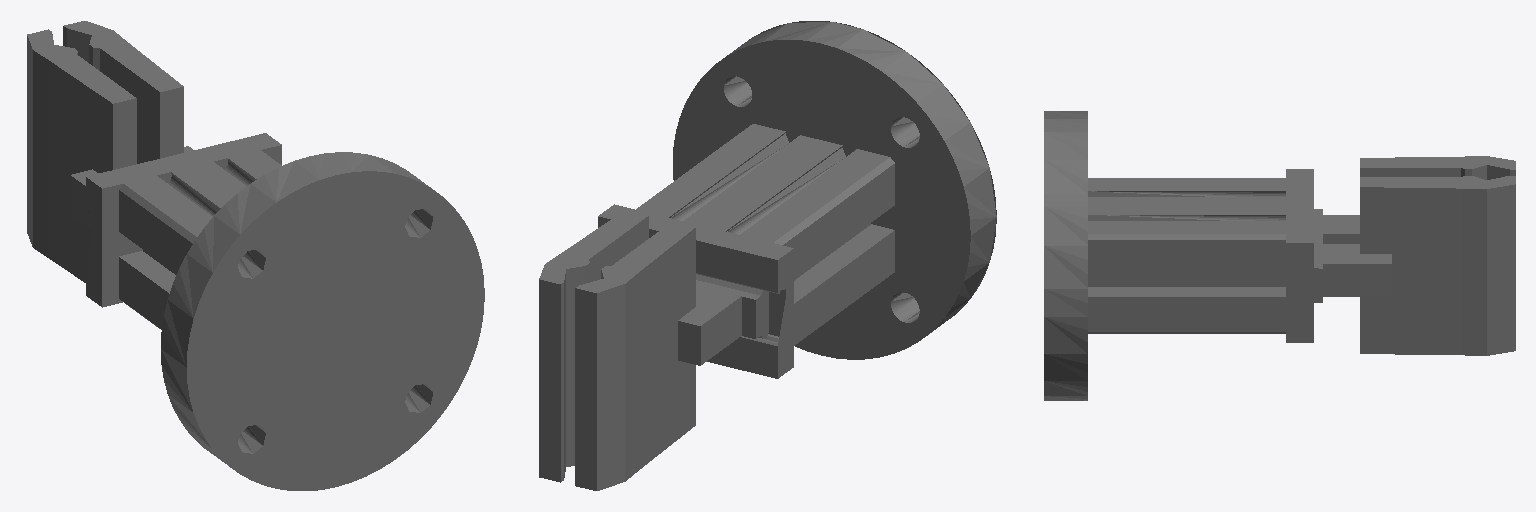
URDF robot description (ur5):
<?xml version="1.0" ?>
<!-- =================================================================================== -->
<!-- |    This document was autogenerated by xacro from /opt/ros/kinetic/share/ur_description/urdf/ur5_robot.urdf.xacro | -->
<!-- |    EDITING THIS FILE BY HAND IS NOT RECOMMENDED                                 | -->
<!-- =================================================================================== -->
<robot name="ur5" xmlns:xacro="http://ros.org/wiki/xacro">
  <gazebo>
    <plugin filename="libgazebo_ros_control.so" name="ros_control">
      <!--robotNamespace>/</robotNamespace-->
      <!--robotSimType>gazebo_ros_control/DefaultRobotHWSim</robotSimType-->
    </plugin>
    <!--
    <plugin name="gazebo_ros_power_monitor_controller" filename="libgazebo_ros_power_monitor.so">
      <alwaysOn>true</alwaysOn>
      <updateRate>1.0</updateRate>
      <timeout>5</timeout>
      <powerStateTopic>power_state</powerStateTopic>
      <powerStateRate>10.0</powerStateRate>
      <fullChargeCapacity>87.78</fullChargeCapacity>
      <dischargeRate>-474</dischargeRate>
      <chargeRate>525</chargeRate>
      <dischargeVoltage>15.52</dischargeVoltage>
      <chargeVoltage>16.41</chargeVoltage>
    </plugin>
-->
  </gazebo>
  <!-- measured from model -->
  <!--property name="shoulder_height" value="0.089159" /-->
  <!--property name="shoulder_offset" value="0.13585" /-->
  <!-- shoulder_offset - elbow_offset + wrist_1_length = 0.10915 -->
  <!--property name="upper_arm_length" value="0.42500" /-->
  <!--property name="elbow_offset" value="0.1197" /-->
  <!-- CAD measured -->
  <!--property name="forearm_length" value="0.39225" /-->
  <!--property name="wrist_1_length" value="0.093" /-->
  <!-- CAD measured -->
  <!--property name="wrist_2_length" value="0.09465" /-->
  <!-- In CAD this distance is 0.930, but in the spec it is 0.09465 -->
  <!--property name="wrist_3_length" value="0.0823" /-->
  <!-- manually measured -->
  <link name="base_link">
    <visual>
      <geometry>
        <mesh filename="package://ur_description/meshes/ur5/visual/base.obj"/>
      </geometry>
      <material name="LightGrey">
        <color rgba="0.7 0.7 0.7 1.0"/>
      </material>
    </visual>
    <collision>
      <geometry>
        <mesh filename="package://ur_description/meshes/ur5/collision/base.stl"/>
      </geometry>
    </collision>
    <inertial>
      <mass value="4.0"/>
      <origin rpy="0 0 0" xyz="0.0 0.0 0.0"/>
      <inertia ixx="0.00443333156" ixy="0.0" ixz="0.0" iyy="0.00443333156" iyz="0.0" izz="0.0072"/>
    </inertial>
  </link>
  <joint name="shoulder_pan_joint" type="revolute">
    <parent link="base_link"/>
    <child link="shoulder_link"/>
    <origin rpy="0.0 0.0 0.0" xyz="0.0 0.0 0.089159"/>
    <axis xyz="0 0 1"/>
    <limit effort="150.0" lower="-6.2831853" upper="6.2831853" velocity="3.15"/>
    <dynamics damping="0.0" friction="0.0"/>
  </joint>
  <link name="shoulder_link">
    <visual>
      <geometry>
        <mesh filename="package://ur_description/meshes/ur5/visual/shoulder.obj"/>
      </geometry>
      <material name="LightGrey">
        <color rgba="0.7 0.7 0.7 1.0"/>
      </material>
    </visual>
    <collision>
      <geometry>
        <mesh filename="package://ur_description/meshes/ur5/collision/shoulder.stl"/>
      </geometry>
    </collision>
    <inertial>
      <mass value="3.7"/>
      <origin rpy="0 0 0" xyz="0.0 0.0 0.0"/>
      <inertia ixx="0.010267495893" ixy="0.0" ixz="0.0" iyy="0.010267495893" iyz="0.0" izz="0.00666"/>
    </inertial>
  </link>
  <joint name="shoulder_lift_joint" type="revolute">
    <parent link="shoulder_link"/>
    <child link="upper_arm_link"/>
    <origin rpy="0.0 1.570796325 0.0" xyz="0.0 0.13585 0.0"/>
    <axis xyz="0 1 0"/>
    <limit effort="150.0" lower="-6.2831853" upper="6.2831853" velocity="3.15"/>
    <dynamics damping="0.0" friction="0.0"/>
  </joint>
  <link name="upper_arm_link">
    <visual>
      <geometry>
        <mesh filename="package://ur_description/meshes/ur5/visual/upperarm.obj"/>
      </geometry>
      <material name="LightGrey">
        <color rgba="0.7 0.7 0.7 1.0"/>
      </material>
    </visual>
    <collision>
      <geometry>
        <mesh filename="package://ur_description/meshes/ur5/collision/upperarm.stl"/>
      </geometry>
    </collision>
    <inertial>
      <mass value="8.393"/>
      <origin rpy="0 0 0" xyz="0.0 0.0 0.28"/>
      <inertia ixx="0.22689067591" ixy="0.0" ixz="0.0" iyy="0.22689067591" iyz="0.0" izz="0.0151074"/>
    </inertial>
  </link>
  <joint name="elbow_joint" type="revolute">
    <parent link="upper_arm_link"/>
    <child link="forearm_link"/>
    <origin rpy="0.0 0.0 0.0" xyz="0.0 -0.1197 0.425"/>
    <axis xyz="0 1 0"/>
    <limit effort="150.0" lower="-6.2831853" upper="6.2831853" velocity="3.15"/>
    <dynamics damping="0.0" friction="0.0"/>
  </joint>
  <link name="forearm_link">
    <visual>
      <geometry>
        <mesh filename="package://ur_description/meshes/ur5/visual/forearm.obj"/>
      </geometry>
      <material name="LightGrey">
        <color rgba="0.7 0.7 0.7 1.0"/>
      </material>
    </visual>
    <collision>
      <geometry>
        <mesh filename="package://ur_description/meshes/ur5/collision/forearm.stl"/>
      </geometry>
    </collision>
    <inertial>
      <mass value="2.275"/>
      <origin rpy="0 0 0" xyz="0.0 0.0 0.25"/>
      <inertia ixx="0.049443313556" ixy="0.0" ixz="0.0" iyy="0.049443313556" iyz="0.0" izz="0.004095"/>
    </inertial>
  </link>
  <joint name="wrist_1_joint" type="revolute">
    <parent link="forearm_link"/>
    <child link="wrist_1_link"/>
    <origin rpy="0.0 1.570796325 0.0" xyz="0.0 0.0 0.39225"/>
    <axis xyz="0 1 0"/>
    <limit effort="28.0" lower="-6.2831853" upper="6.2831853" velocity="3.2"/>
    <dynamics damping="0.0" friction="0.0"/>
  </joint>
  <link name="wrist_1_link">
    <visual>
      <geometry>
        <mesh filename="package://ur_description/meshes/ur5/visual/wrist1.obj"/>
      </geometry>
      <material name="LightGrey">
        <color rgba="0.7 0.7 0.7 1.0"/>
      </material>
    </visual>
    <collision>
      <geometry>
        <mesh filename="package://ur_description/meshes/ur5/collision/wrist1.stl"/>
      </geometry>
    </collision>
    <inertial>
      <mass value="1.219"/>
      <origin rpy="0 0 0" xyz="0.0 0.0 0.0"/>
      <inertia ixx="0.111172755531" ixy="0.0" ixz="0.0" iyy="0.111172755531" iyz="0.0" izz="0.21942"/>
    </inertial>
  </link>
  <joint name="wrist_2_joint" type="revolute">
    <parent link="wrist_1_link"/>
    <child link="wrist_2_link"/>
    <origin rpy="0.0 0.0 0.0" xyz="0.0 0.093 0.0"/>
    <axis xyz="0 0 1"/>
    <limit effort="28.0" lower="-6.2831853" upper="6.2831853" velocity="3.2"/>
    <dynamics damping="0.0" friction="0.0"/>
  </joint>
  <link name="wrist_2_link">
    <visual>
      <geometry>
        <mesh filename="package://ur_description/meshes/ur5/visual/wrist2.obj"/>
      </geometry>
      <material name="LightGrey">
        <color rgba="0.7 0.7 0.7 1.0"/>
      </material>
    </visual>
    <collision>
      <geometry>
        <mesh filename="package://ur_description/meshes/ur5/collision/wrist2.stl"/>
      </geometry>
    </collision>
    <inertial>
      <mass value="1.219"/>
      <origin rpy="0 0 0" xyz="0.0 0.0 0.0"/>
      <inertia ixx="0.111172755531" ixy="0.0" ixz="0.0" iyy="0.111172755531" iyz="0.0" izz="0.21942"/>
    </inertial>
  </link>
  <joint name="wrist_3_joint" type="revolute">
    <parent link="wrist_2_link"/>
    <child link="wrist_3_link"/>
    <origin rpy="0.0 0.0 0.0" xyz="0.0 0.0 0.09465"/>
    <axis xyz="0 1 0"/>
    <limit effort="28.0" lower="-6.2831853" upper="6.2831853" velocity="3.2"/>
    <dynamics damping="0.0" friction="0.0"/>
  </joint>
  <link name="wrist_3_link">
    <visual>
      <geometry>
        <mesh filename="package://ur_description/meshes/ur5/visual/wrist3.obj"/>
      </geometry>
      <material name="LightGrey">
        <color rgba="0.7 0.7 0.7 1.0"/>
      </material>
    </visual>
    <collision>
      <geometry>
        <mesh filename="package://ur_description/meshes/ur5/collision/wrist3.stl"/>
      </geometry>
    </collision>
    <inertial>
      <mass value="0.1879"/>
      <origin rpy="0 0 0" xyz="0.0 0.0 0.0"/>
      <inertia ixx="0.0171364731454" ixy="0.0" ixz="0.0" iyy="0.0171364731454" iyz="0.0" izz="0.033822"/>
    </inertial>
  </link>
  <joint name="ee_fixed_joint" type="fixed">
    <parent link="wrist_3_link"/>
    <child link="ee_link"/>
    <origin rpy="0.0 0.0 1.570796325" xyz="0.0 0.0823 0.0"/>
  </joint>
  <link name="ee_link">
    <collision>
      <geometry>
        <box size="0.01 0.01 0.01"/>
      </geometry>
      <origin rpy="0 0 0" xyz="-0.01 0 0"/>
    </collision>
  </link>
  <transmission name="shoulder_pan_trans">
    <type>transmission_interface/SimpleTransmission</type>
    <joint name="shoulder_pan_joint">
      <hardwareInterface>PositionJointInterface</hardwareInterface>
    </joint>
    <actuator name="shoulder_pan_motor">
      <mechanicalReduction>1</mechanicalReduction>
    </actuator>
  </transmission>
  <transmission name="shoulder_lift_trans">
    <type>transmission_interface/SimpleTransmission</type>
    <joint name="shoulder_lift_joint">
      <hardwareInterface>PositionJointInterface</hardwareInterface>
    </joint>
    <actuator name="shoulder_lift_motor">
      <mechanicalReduction>1</mechanicalReduction>
    </actuator>
  </transmission>
  <transmission name="elbow_trans">
    <type>transmission_interface/SimpleTransmission</type>
    <joint name="elbow_joint">
      <hardwareInterface>PositionJointInterface</hardwareInterface>
    </joint>
    <actuator name="elbow_motor">
      <mechanicalReduction>1</mechanicalReduction>
    </actuator>
  </transmission>
  <transmission name="wrist_1_trans">
    <type>transmission_interface/SimpleTransmission</type>
    <joint name="wrist_1_joint">
      <hardwareInterface>PositionJointInterface</hardwareInterface>
    </joint>
    <actuator name="wrist_1_motor">
      <mechanicalReduction>1</mechanicalReduction>
    </actuator>
  </transmission>
  <transmission name="wrist_2_trans">
    <type>transmission_interface/SimpleTransmission</type>
    <joint name="wrist_2_joint">
      <hardwareInterface>PositionJointInterface</hardwareInterface>
    </joint>
    <actuator name="wrist_2_motor">
      <mechanicalReduction>1</mechanicalReduction>
    </actuator>
  </transmission>
  <transmission name="wrist_3_trans">
    <type>transmission_interface/SimpleTransmission</type>
    <joint name="wrist_3_joint">
      <hardwareInterface>PositionJointInterface</hardwareInterface>
    </joint>
    <actuator name="wrist_3_motor">
      <mechanicalReduction>1</mechanicalReduction>
    </actuator>
  </transmission>
  <!-- nothing to do here at the moment -->
  <!-- ROS base_link to UR 'Base' Coordinates transform -->
  <link name="base"/>
  <joint name="base_link-base_fixed_joint" type="fixed">
    <!-- NOTE: this rotation is only needed as long as base_link itself is
                 not corrected wrt the real robot (ie: rotated over 180
                 degrees)
      -->
    <origin rpy="0 0 -3.14159265" xyz="0 0 0"/>
    <parent link="base_link"/>
    <child link="base"/>
  </joint>
  <!-- Frame coincident with all-zeros TCP on UR controller -->
  <link name="tool0"/>
  <joint name="wrist_3_link-tool0_fixed_joint" type="fixed">
    <origin rpy="-1.570796325 0 0" xyz="0 0.0823 0"/>
    <parent link="wrist_3_link"/>
    <child link="tool0"/>
  </joint>
  <link name="world"/>
  <joint name="world_joint" type="fixed">
    <parent link="world"/>
    <child link="base_link"/>
    <origin rpy="0.0 0.0 0.0" xyz="0.0 0.0 0.0"/>
  </joint>

  <!-- link list -->
  <link name="eef_base_link">
    <visual>
	  <!-- TCP caliberation should be entered here! -->
      <origin rpy="0 0 0" xyz="0 0 0"/>
      <geometry>
        <mesh filename="../../../dms_bar_gripper.obj" scale="1 1 1"/>
      </geometry>
      <material name="grey">
        <color rgba="0.5 0.5 0.5 1.0"/>
      </material>
    </visual>
    <collision>
	  <!-- TCP caliberation should be entered here! -->
      <origin rpy="0 0 0" xyz="0 0 0"/>
      <geometry>
        <mesh filename="../../../dms_bar_gripper.obj" scale="1 1 1"/>
      </geometry>
      <material name="red">
        <color rgba="1 0 0 1"/>
      </material>
    </collision>
  </link>
  <link name="eef_tcp_frame"/>
  <!-- end of link list -->
  <!-- joint list -->
  <joint name="eef_base_to_tcp" type="fixed">
    <!-- caliberated TCP value here! -->
    <origin rpy="0.0 0.0 0.0" xyz="0.094 0 0"/>
    <parent link="eef_base_link"/>
    <child link="eef_tcp_frame"/>
  </joint>
  <!-- Attach the end effector to the end of the robot arm (tool0) -->
  <joint name="ee_to_robot" type="fixed">
    <parent link="ee_link"/>
    <child link="eef_base_link"/>
    <origin rpy="0 0 0" xyz="0 0 0"/>
  </joint>
  <!-- end of joint list -->

</robot>

--- What the picture shows (computed from the rendered views, not written in the file) ---
Views: 3 orthographic renders of the robot side by side, from view 1: azimuth 30°, elevation 25°; view 2: azimuth 150°, elevation 25°; view 3: azimuth 270°, elevation 25°.
Robot: ur5 — 13 links, 12 joints (6 revolute, 6 fixed); root link world; default pose: all joints at 0.
Links seen in each view (by area): view 1: eef_base_link; view 2: eef_base_link; view 3: eef_base_link.
Link boxes in pixels (x1,y1,x2,y2): eef_base_link: (27, 21, 484, 490); eef_base_link: (539, 21, 996, 490); eef_base_link: (1044, 111, 1515, 400).
Size in the robot's own frame: 0.063 by 0.1023 by 0.063 metres.
1 mesh visuals loaded from 8 distinct referenced files (1 OBJ); not drawn: 7 (reference not matched to a file when rendering).